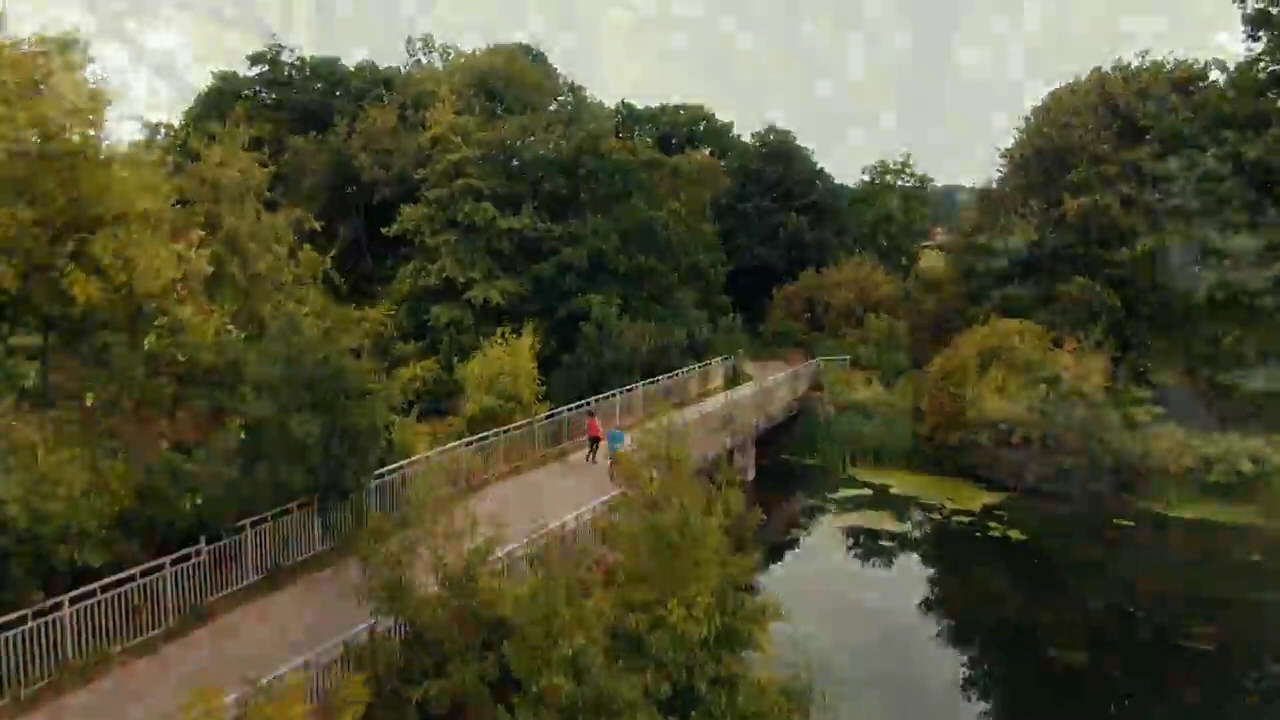insan: (606, 421, 630, 479), (582, 407, 601, 464)
